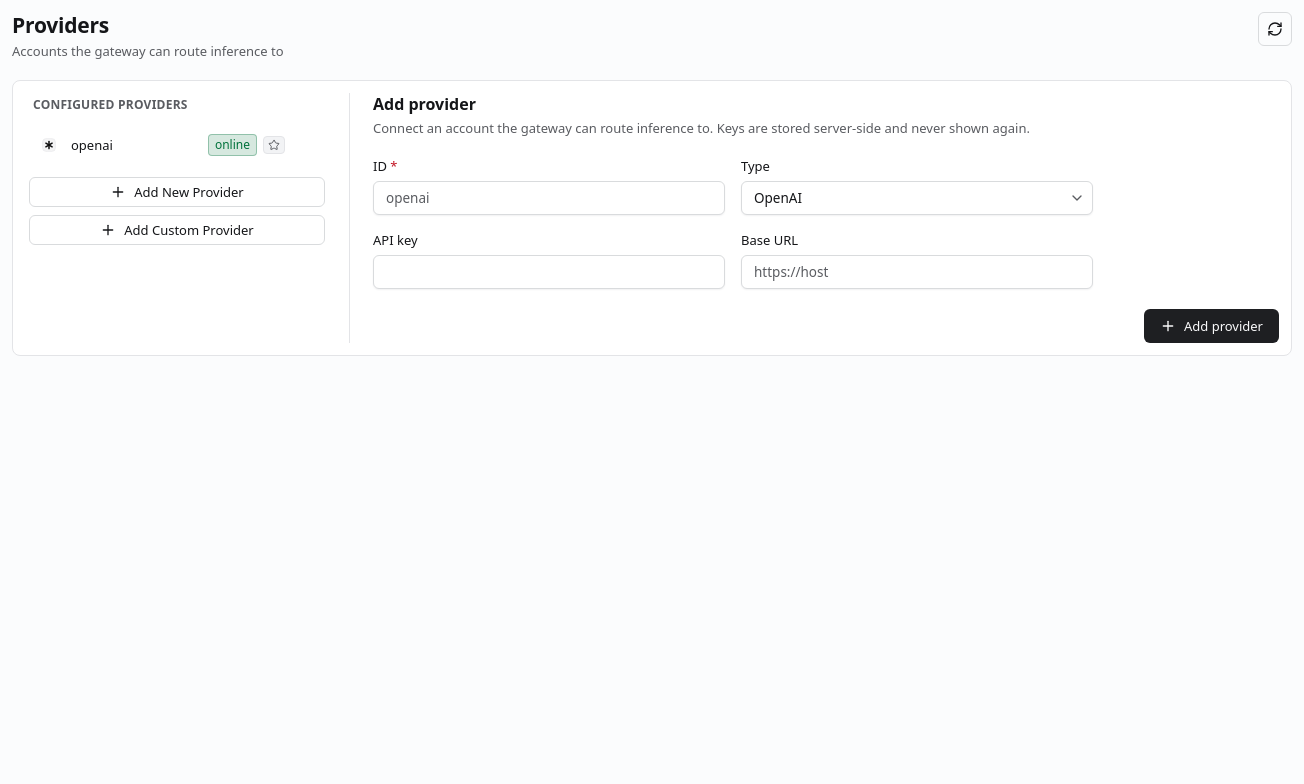
Test: ProvidersView 6-tab config panel › saves only changed groups (debugging) as a patch
Click the button "openai online" at [92, 145], box [25,125,295,165]
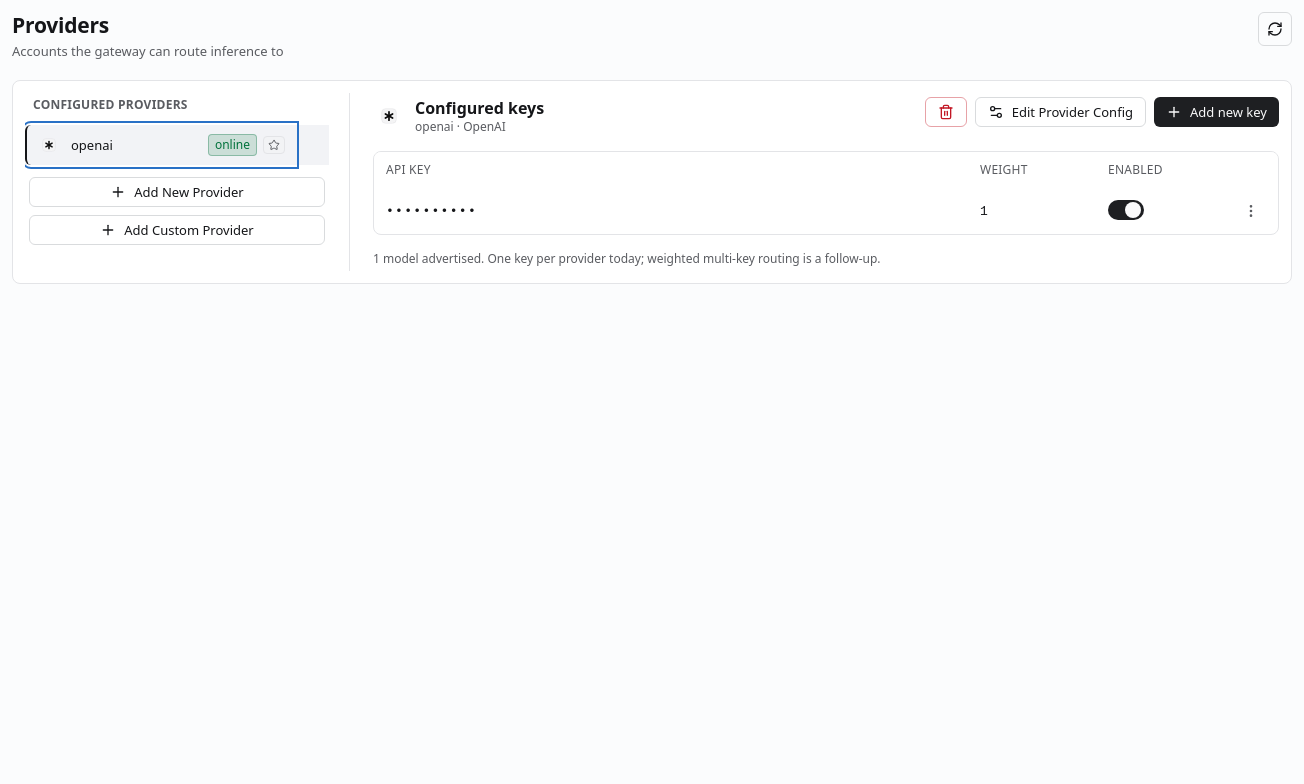
Click the button "Edit Provider Config" at [1060, 112], box [975,97,1146,127]
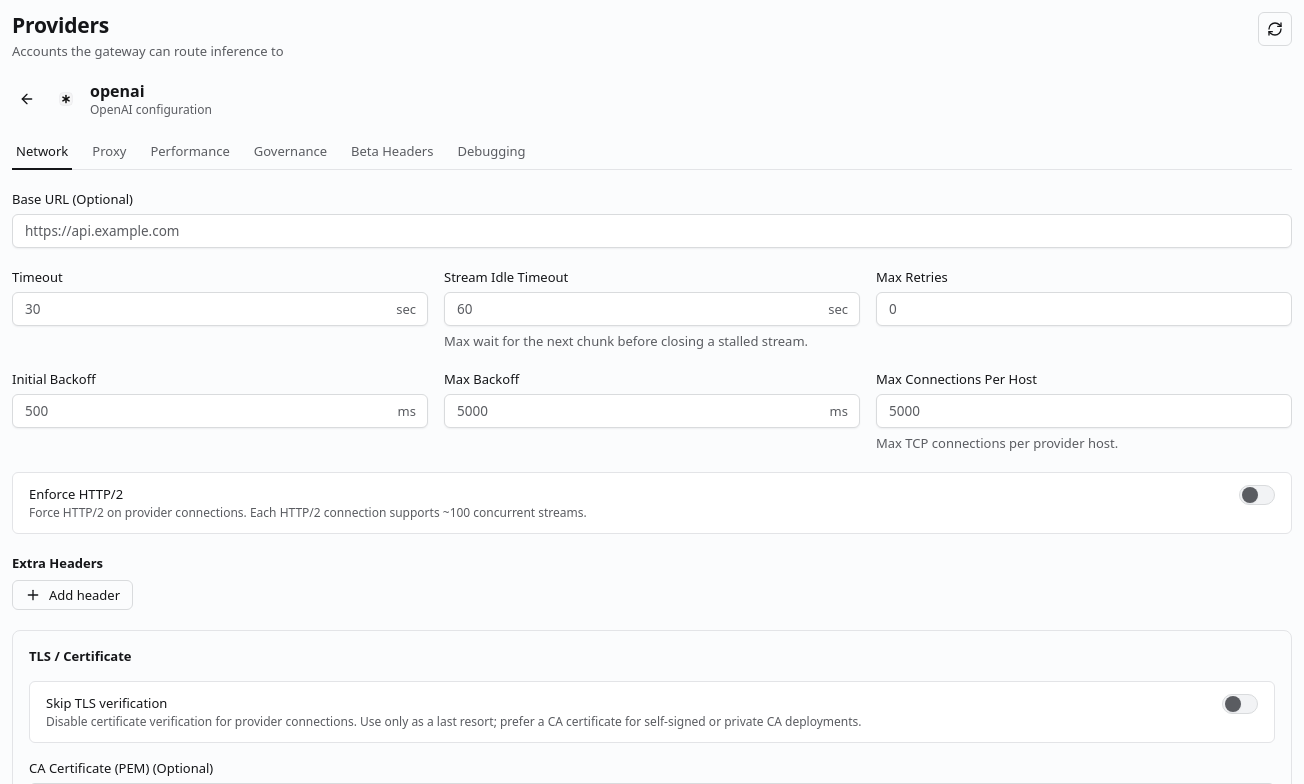
Click the tab "Debugging" at [492, 152], box [453,134,530,170]
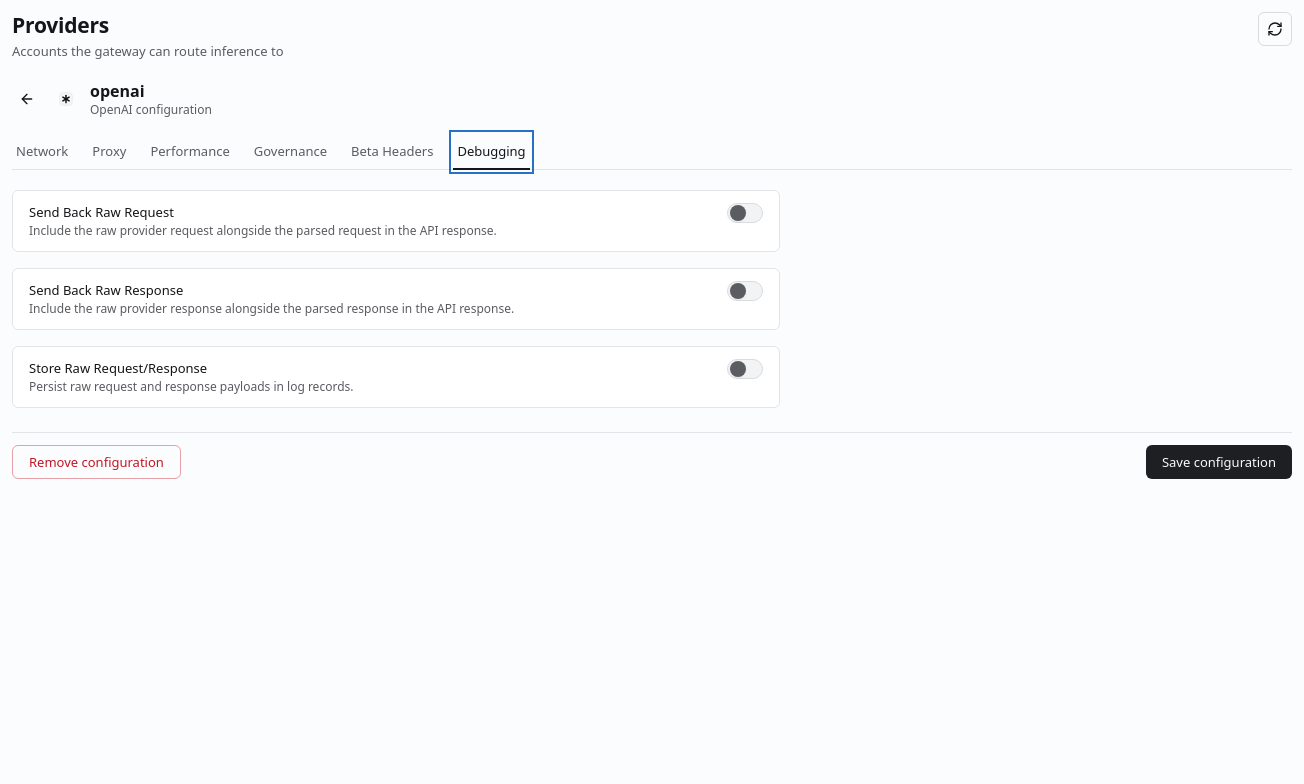
Click the switch named "Send Back Raw Request" at [745, 213], box [727,203,763,223]
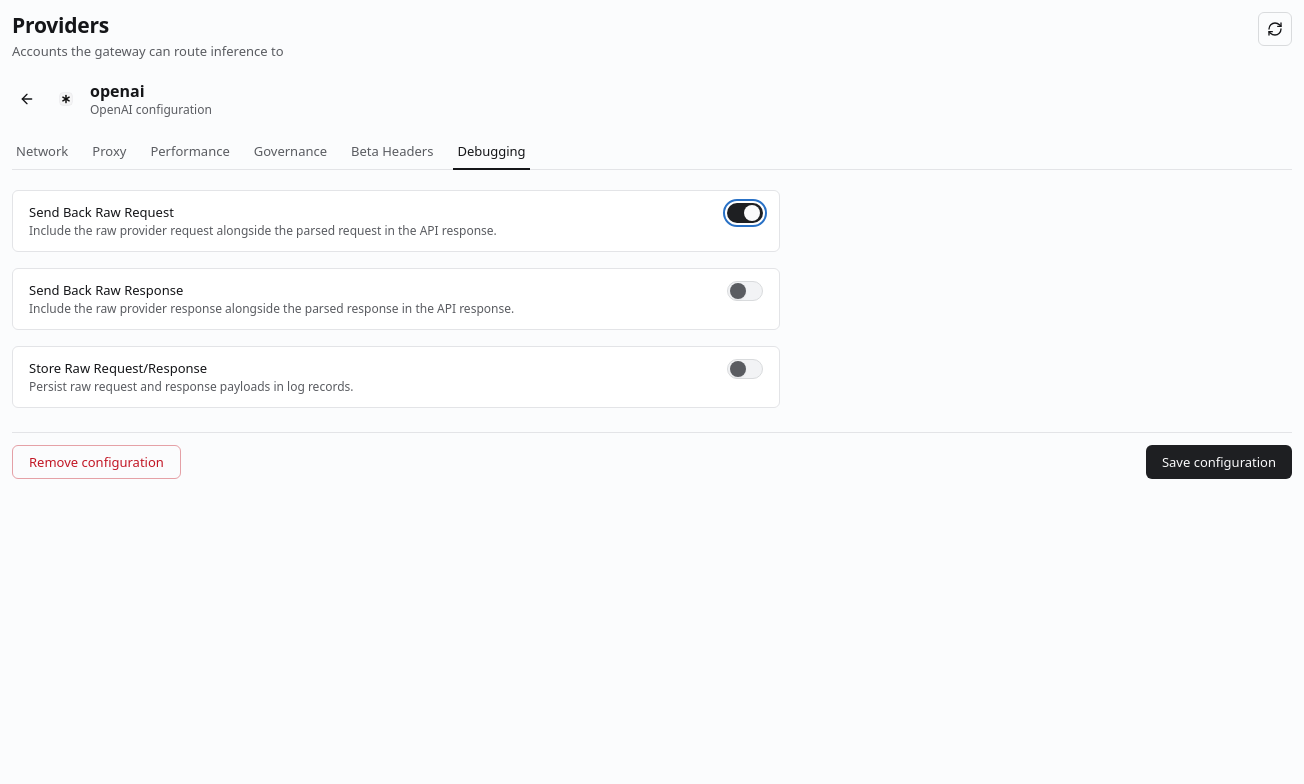
Click the button "Save configuration" at [1219, 462], box [1146,445,1292,479]
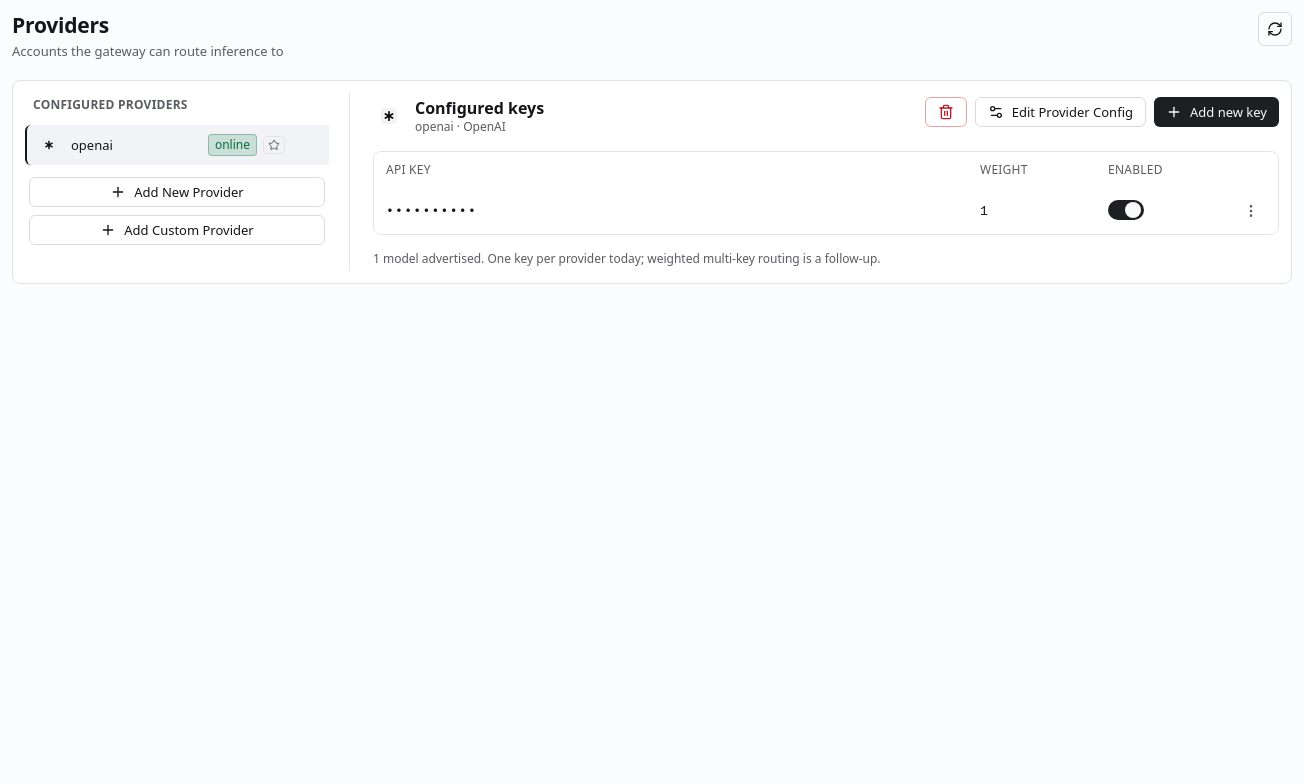
Now the text "openai" is shown, box [71,136,113,154]
